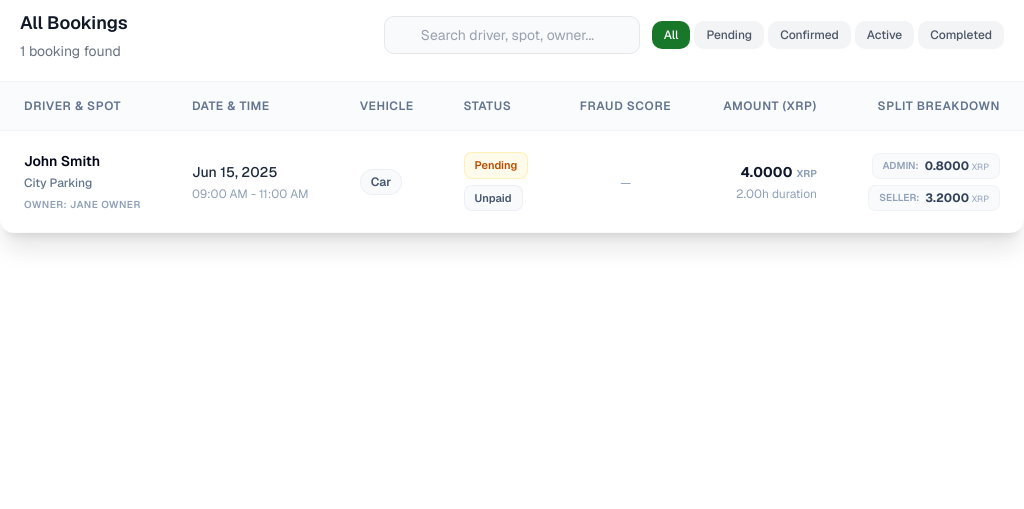
BookingTable Component › Expanded Row Details › click row shows expanded details
This screenshot has width=1024, height=509.
Note: Click the row
Click the text "John Smith": (62, 161) [24,152,100,170]
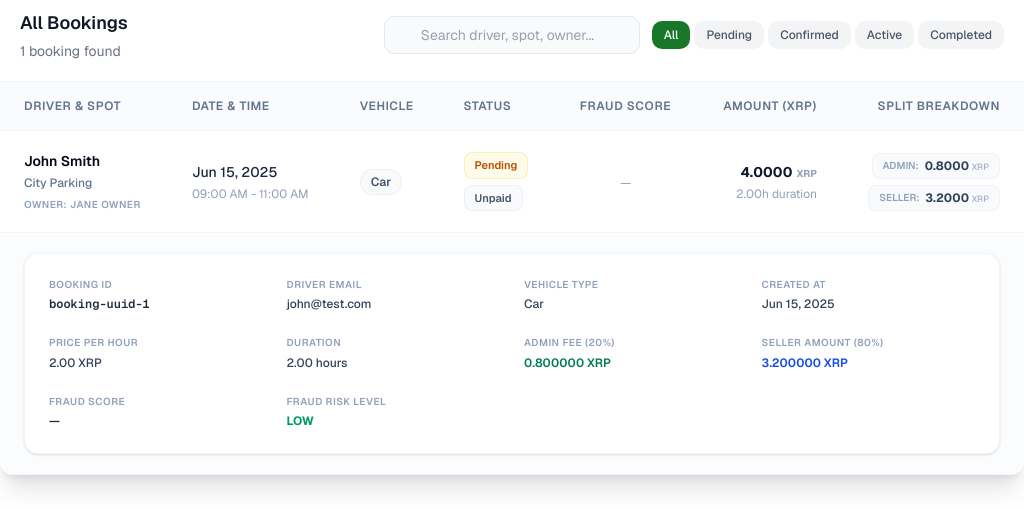
expect the text "Booking ID" is shown: met, box [49,278,112,291]
expect the text "Driver Email" is shown: met, box [286,278,362,291]
